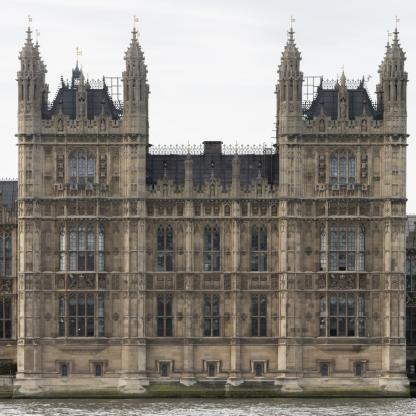Building Outline: (12, 27, 411, 399)
Deco: (328, 273, 357, 290), (67, 274, 96, 290), (250, 275, 269, 290), (156, 275, 175, 290), (203, 275, 221, 290), (361, 146, 368, 183), (319, 146, 326, 183), (100, 146, 107, 183), (57, 146, 64, 183), (98, 273, 107, 290), (56, 274, 65, 290), (317, 274, 326, 290), (359, 273, 367, 290), (340, 99, 346, 118), (79, 99, 85, 118), (43, 171, 53, 180), (372, 172, 381, 181), (111, 172, 120, 181), (305, 172, 314, 181), (304, 312, 313, 321), (223, 247, 232, 256), (319, 119, 325, 132), (100, 119, 106, 132), (257, 185, 263, 197), (162, 185, 168, 197), (210, 185, 216, 197), (270, 248, 279, 256), (372, 312, 380, 321), (305, 247, 313, 256), (270, 313, 279, 321), (223, 313, 232, 321), (111, 313, 120, 321), (44, 247, 52, 256), (112, 247, 120, 256), (146, 247, 154, 256), (176, 247, 184, 256), (193, 247, 201, 256), (240, 247, 248, 256), (362, 119, 367, 132), (58, 119, 63, 132), (372, 247, 380, 255), (240, 313, 248, 321), (193, 313, 201, 321), (176, 313, 184, 321), (146, 313, 154, 321), (44, 313, 52, 321)
Facade: (17, 155, 407, 398)
Floor: (19, 211, 407, 280), (18, 144, 407, 206), (19, 285, 407, 341)
Floor Slab: (18, 206, 406, 211), (18, 341, 406, 346), (18, 280, 406, 285), (279, 138, 408, 144), (17, 138, 146, 144)
Ground Floor: (19, 346, 407, 398)
Molding: (16, 198, 408, 221), (17, 339, 406, 345), (277, 133, 410, 146), (17, 134, 147, 146)
Roof: (146, 155, 279, 184), (41, 90, 123, 120), (302, 90, 383, 120)
Sill: (53, 346, 110, 355), (314, 346, 370, 355)
Top Floor: (59, 89, 109, 138), (317, 90, 367, 138)
Window: (58, 222, 106, 271), (318, 222, 366, 271), (58, 292, 106, 337), (318, 292, 366, 337), (68, 148, 96, 198), (330, 148, 357, 198), (250, 223, 269, 271), (156, 223, 174, 271), (203, 223, 221, 271), (250, 293, 269, 337), (156, 293, 174, 337), (203, 293, 221, 337), (94, 364, 103, 377), (160, 364, 169, 377), (321, 364, 330, 377), (355, 364, 363, 377), (61, 364, 69, 377), (208, 364, 216, 377), (255, 364, 263, 377)
